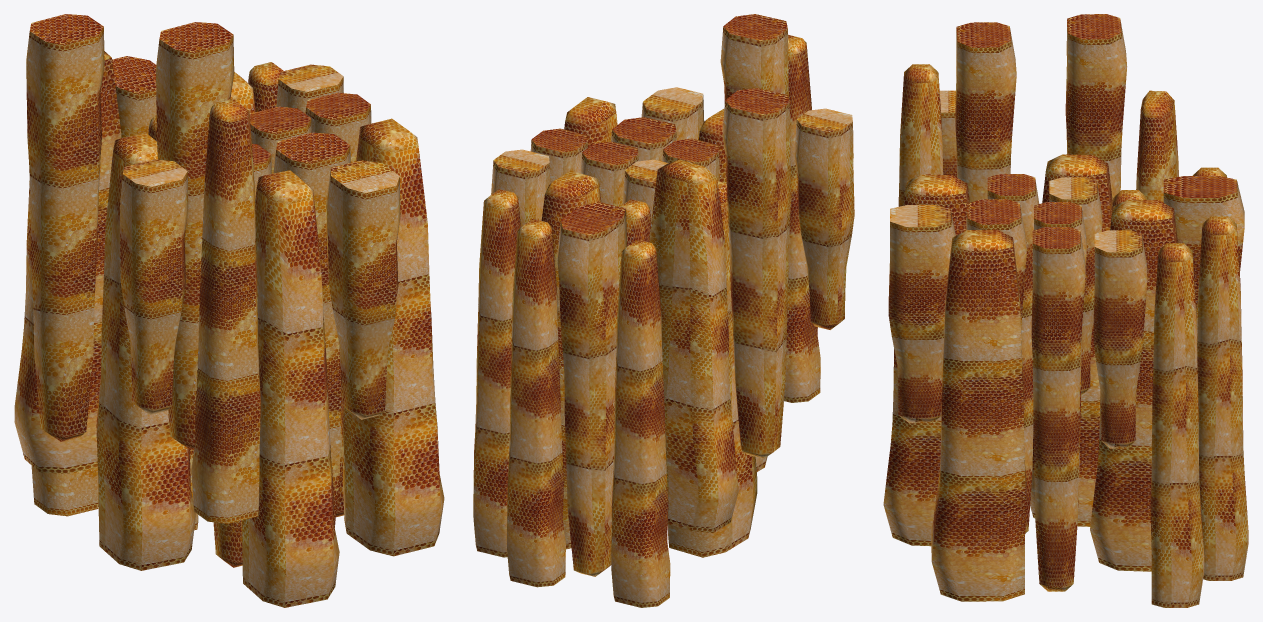
The model's file is beehivebasic.fbx.
3 views of the same model, side by side, from view 1: azimuth 30°, elevation 25°; view 2: azimuth 150°, elevation 25°; view 3: azimuth 270°, elevation 25° (orthographic). The views are drawn at different scales.
Visible parts, largest first — view 1: pCube7, pCube23, pCube14, pCube20, pCube18, pCube12, pCube19, pCube24, pCube22, pCube11, pCube13, pCube6 (+6 smaller); view 2: pCube22, pCube23, pCube6, pCube21, pCube10, pCube15, pCube24, pCube20, pCube18, pCube19, pCube9, pCube17 (+9 smaller); view 3: pCube14, pCube13, pCube15, pCube10, pCube9, pCube12, pCube17, pCube19, pCube7, pCube23, pCube18, pCube20 (+7 smaller).
Boxes of the visible parts, <box> form: pCube7: <box>241,170,339,607</box>; pCube23: <box>26,14,104,441</box>; pCube14: <box>341,118,444,556</box>; pCube20: <box>191,98,260,523</box>; pCube18: <box>96,133,195,570</box>; pCube12: <box>326,160,400,419</box>; pCube19: <box>156,22,234,449</box>; pCube24: <box>120,159,188,414</box>; pCube22: <box>14,51,121,473</box>; pCube11: <box>273,132,350,527</box>; pCube13: <box>305,92,371,517</box>; pCube6: <box>112,56,156,138</box>; pCube22: <box>649,159,738,532</box>; pCube23: <box>722,88,791,458</box>; pCube6: <box>557,202,626,576</box>; pCube21: <box>611,239,670,607</box>; pCube10: <box>506,219,565,587</box>; pCube15: <box>473,189,520,557</box>; pCube24: <box>794,108,854,329</box>; pCube20: <box>784,34,820,402</box>; pCube18: <box>667,181,757,557</box>; pCube19: <box>720,14,788,102</box>; pCube9: <box>541,170,601,549</box>; pCube17: <box>491,149,549,226</box>; pCube14: <box>931,229,1026,601</box>; pCube13: <box>1031,227,1085,591</box>; pCube15: <box>1150,243,1204,607</box>; pCube10: <box>1197,216,1248,580</box>; pCube9: <box>1090,199,1177,571</box>; pCube12: <box>888,205,955,423</box>; pCube17: <box>1093,230,1147,448</box>; pCube19: <box>955,22,1016,202</box>; pCube7: <box>883,174,969,546</box>; pCube23: <box>1065,14,1127,201</box>; pCube18: <box>1030,154,1112,526</box>; pCube20: <box>898,64,943,206</box>.
Size of the model in its own units: 1706 by 2803 by 1907.
